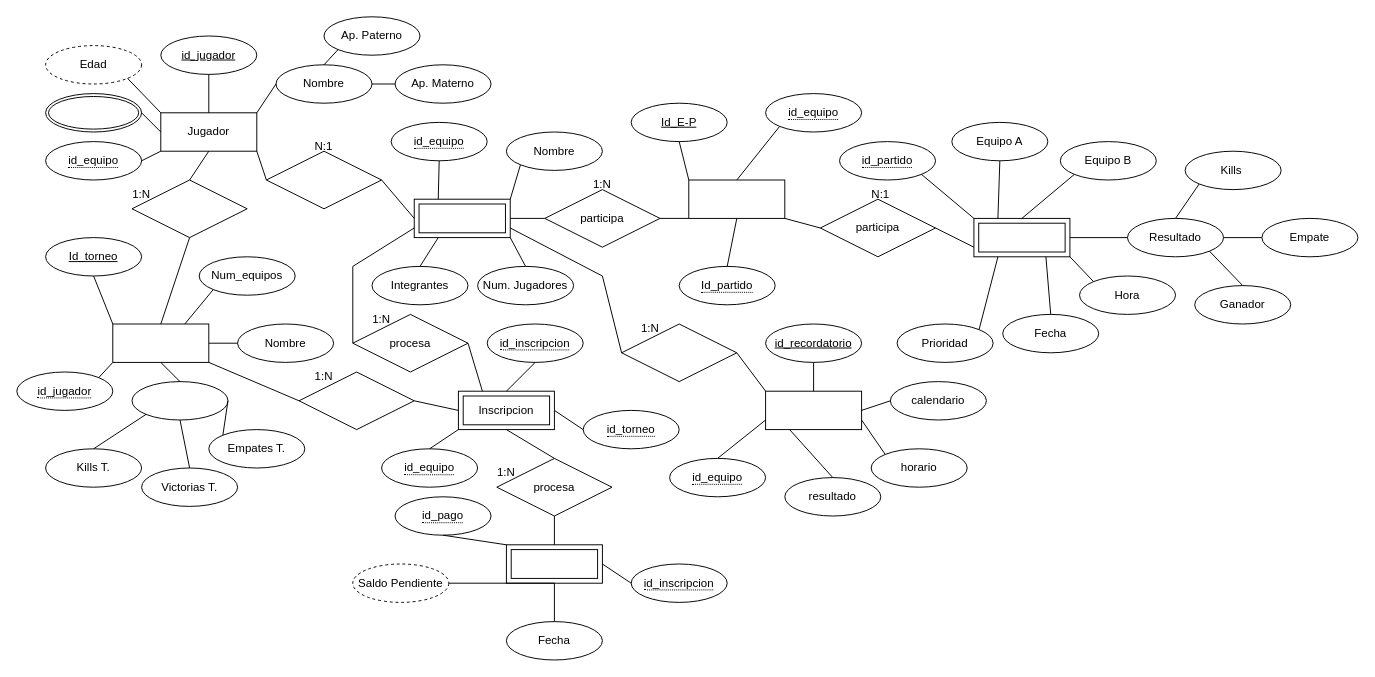
Image size: 1375x677. Some labels were removed from this diagram. Here are the shapes that lost their labels. From the top down, the box of each, then its label:
(45, 93, 142, 132): Rol
(265, 150, 382, 209): tiene
(688, 179, 785, 218): E-P
(131, 179, 247, 238): participan
(413, 198, 510, 238): Equipo
(973, 217, 1070, 257): Partido
(112, 323, 209, 362): Torneo
(621, 323, 737, 382): recibe
(131, 381, 228, 420): Registro
(298, 371, 414, 430): habilita
(765, 390, 862, 430): Recordatorio
(505, 544, 602, 583): Pago
